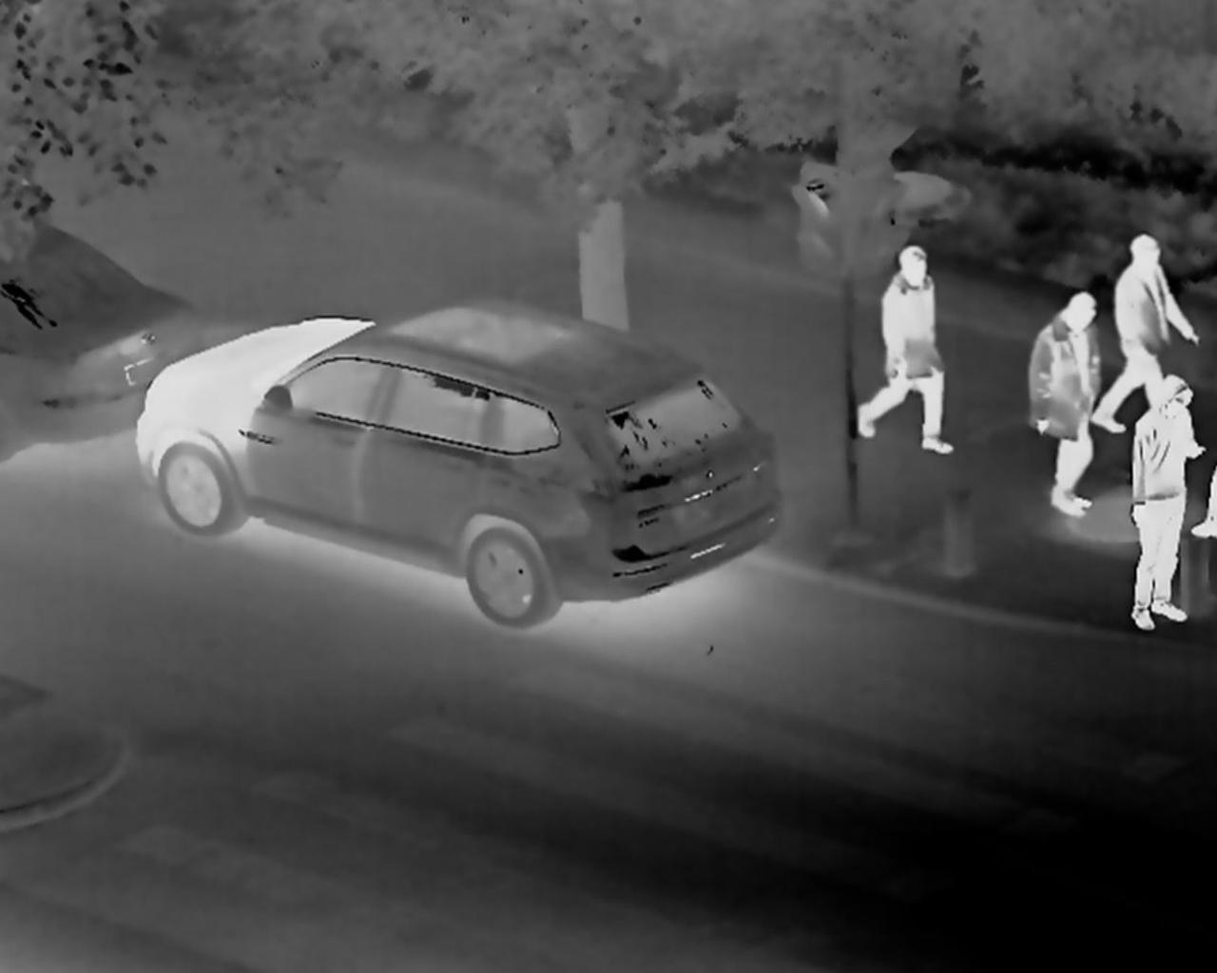person: (1082, 230, 1206, 460), (848, 238, 957, 460), (1124, 368, 1202, 630), (1020, 282, 1097, 517)
